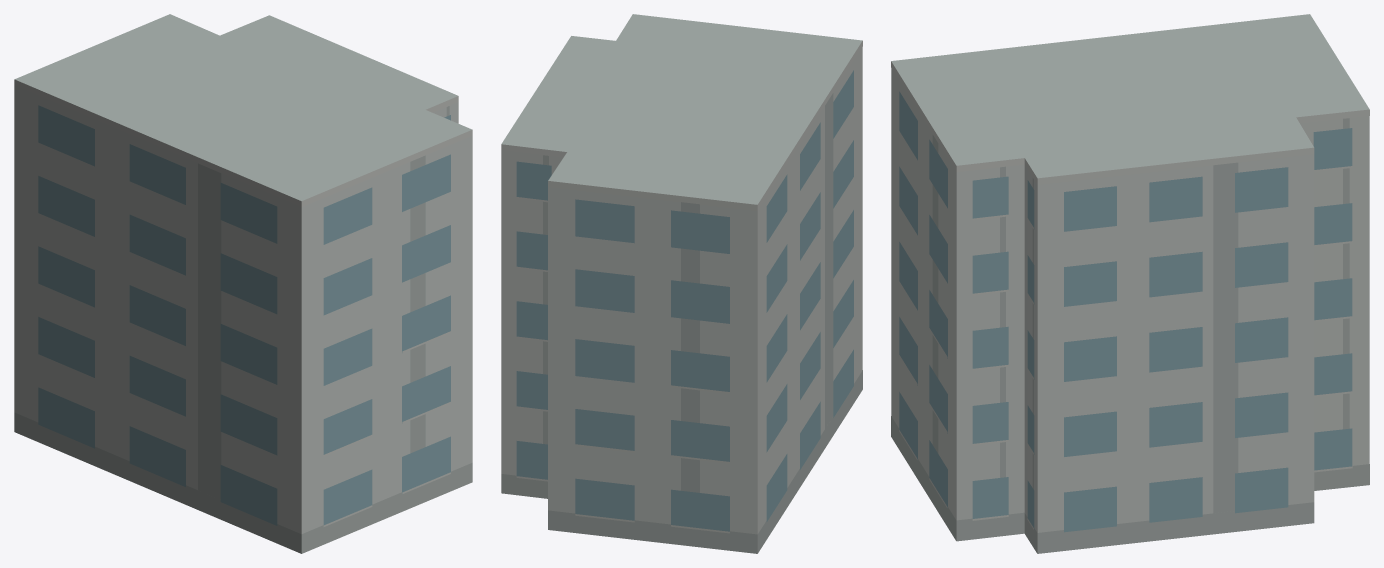
Rendered from survey-upis-32793217.glb.
3 views of the same model, side by side, from view 1: azimuth 30°, elevation 25°; view 2: azimuth 150°, elevation 25°; view 3: azimuth 270°, elevation 25° (orthographic). The views are drawn at different scales.
Parts seen in each view (by area): view 1: survey-upis-32793217.tmp; view 2: survey-upis-32793217.tmp; view 3: survey-upis-32793217.tmp.
Boxes of the visible parts, x1,y1,x2,y2 form: survey-upis-32793217.tmp: [14, 14, 472, 553]; survey-upis-32793217.tmp: [501, 14, 862, 553]; survey-upis-32793217.tmp: [891, 14, 1369, 553].
Bounding box in the file's own units: 13.24 × 14.1 × 16.3.
